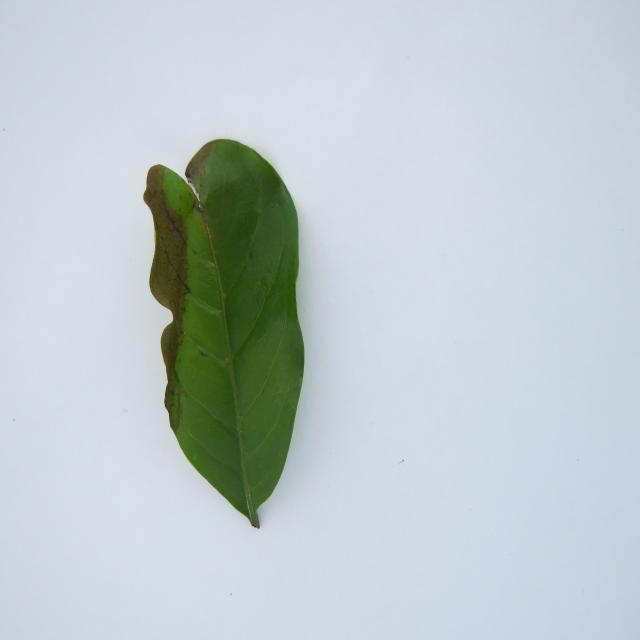DeficienciaNutricional-Boro: (144, 140, 304, 527)
